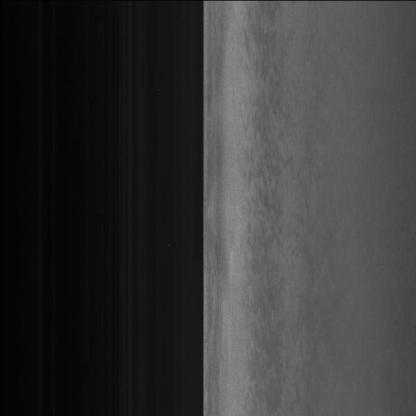silk_spot: (233, 37, 292, 331)
